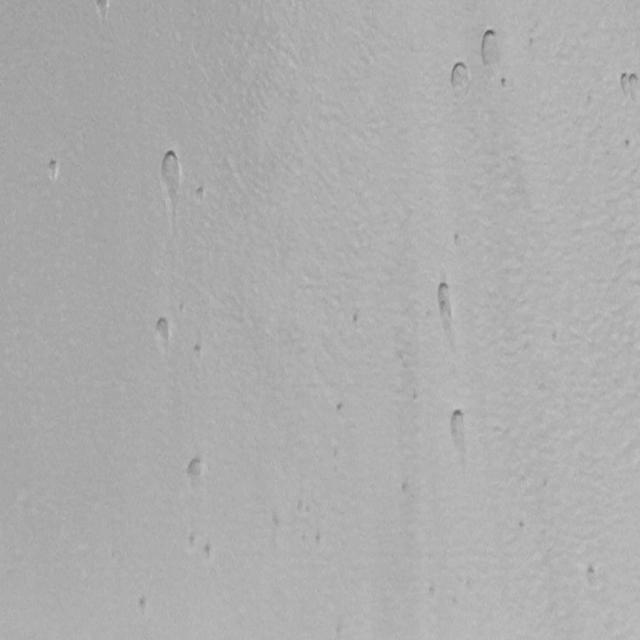pin holes: (157, 146, 185, 202), (432, 281, 457, 326), (447, 408, 472, 448), (449, 60, 474, 97), (182, 453, 208, 488), (150, 314, 175, 347), (479, 28, 502, 63), (618, 70, 640, 100), (583, 563, 606, 591), (43, 156, 63, 182), (90, 0, 112, 22), (135, 595, 154, 619), (449, 228, 468, 250), (202, 540, 218, 566), (350, 309, 368, 332), (332, 397, 350, 419), (193, 184, 209, 204), (187, 532, 201, 552), (312, 530, 325, 551), (498, 76, 514, 92), (400, 479, 410, 502), (622, 136, 636, 152), (426, 580, 436, 602), (193, 342, 206, 358), (178, 301, 189, 317), (450, 595, 460, 610), (410, 389, 420, 404), (519, 518, 526, 530)
